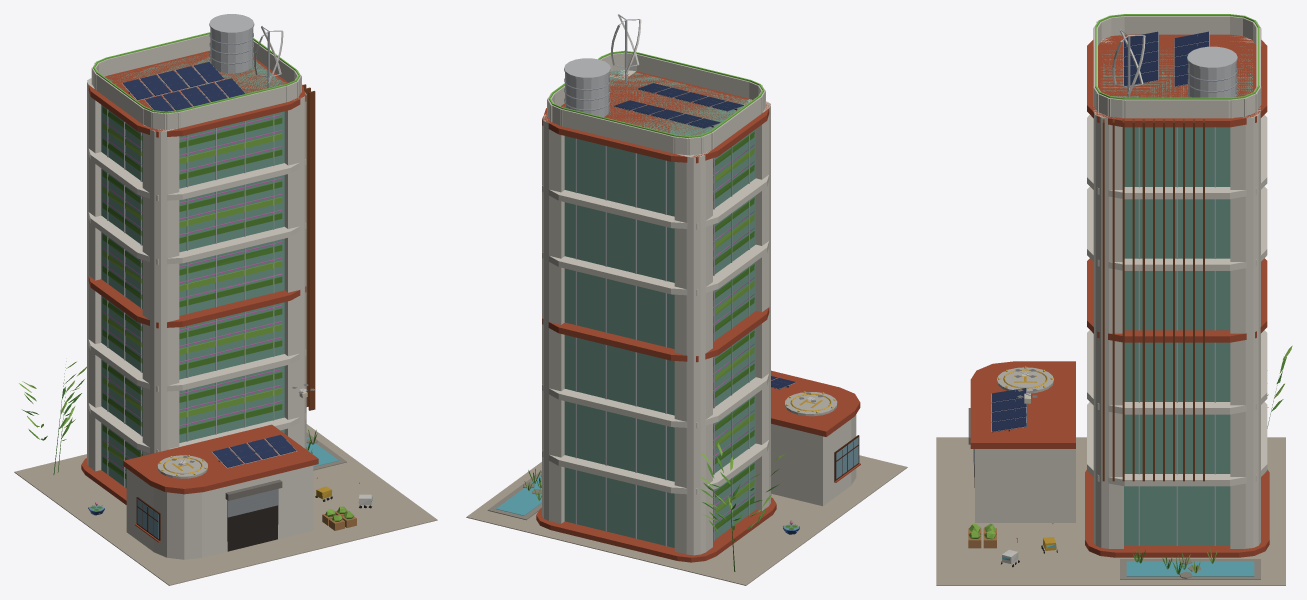
File: factory_2.glb
The picture shows the model from 3 angles, left to right: view 1: azimuth 30°, elevation 25°; view 2: azimuth 150°, elevation 25°; view 3: azimuth 270°, elevation 25°; orthographic projection. The views are drawn at different scales.
Visible parts, largest first — view 1: body, windows; view 2: body, windows; view 3: body, windows.
Boxes of the visible parts, box(x1,y1,x2,y2) form: body: box(14, 14, 437, 585); windows: box(93, 32, 372, 551); body: box(466, 14, 907, 585); windows: box(548, 50, 835, 413); body: box(936, 16, 1292, 585); windows: box(974, 14, 1259, 560).
Bounding box in the file's own units: 16.61 × 25.34 × 16.2.
